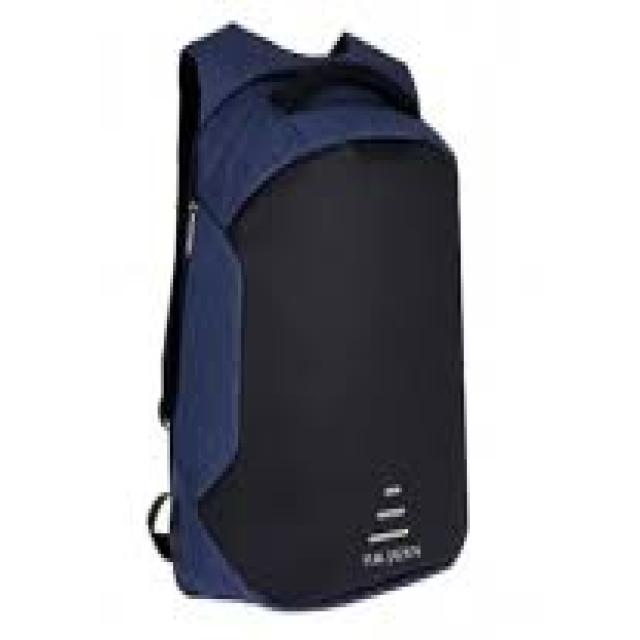backpack: (146, 18, 468, 609)
